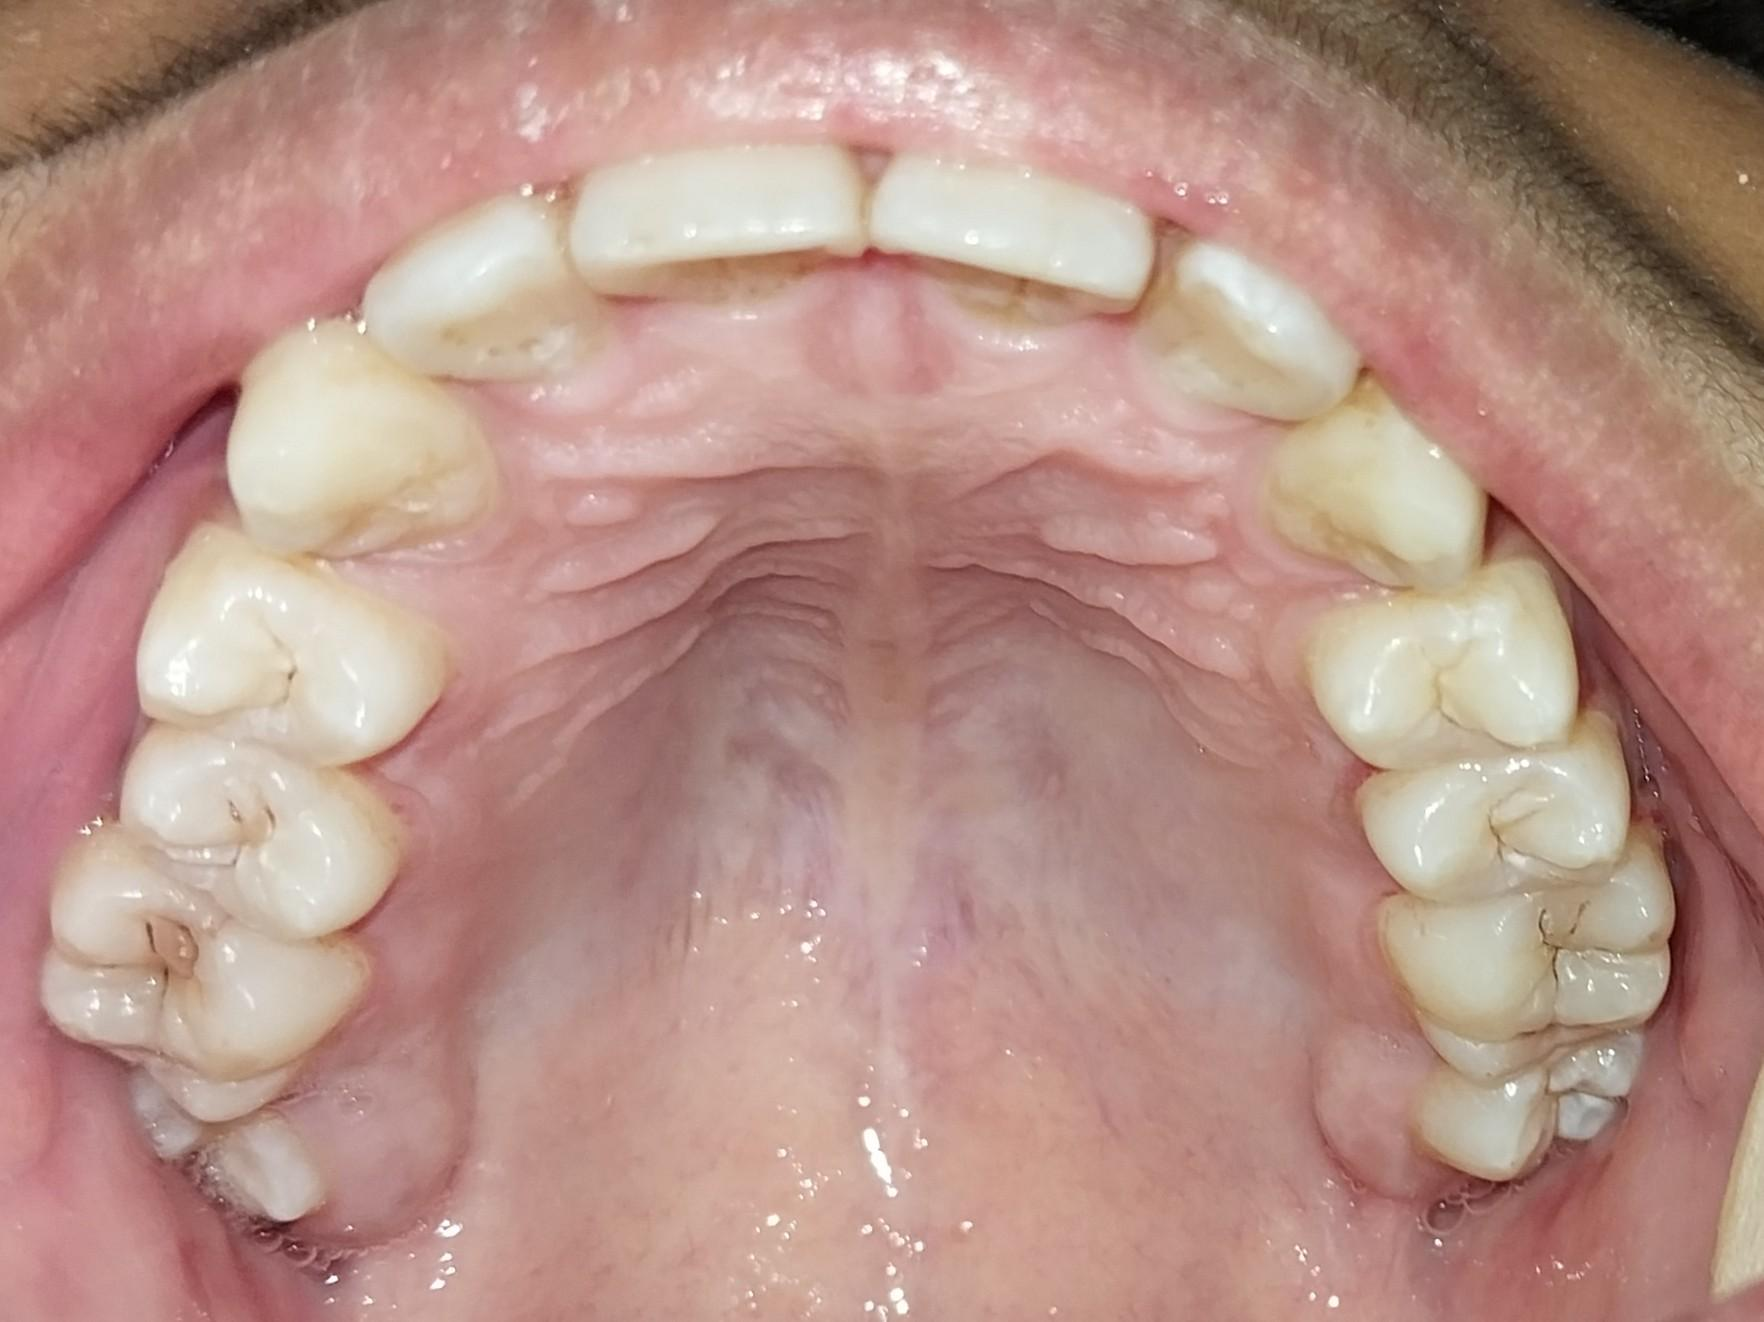D: (29, 849, 363, 1131), (1375, 856, 1681, 1067), (129, 551, 429, 761), (109, 733, 409, 926)
